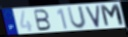1: (57, 8, 68, 30)
4: (20, 10, 34, 33)
B: (33, 9, 52, 32)
M: (99, 3, 126, 28)
U: (66, 5, 88, 30)
V: (85, 5, 101, 29)
